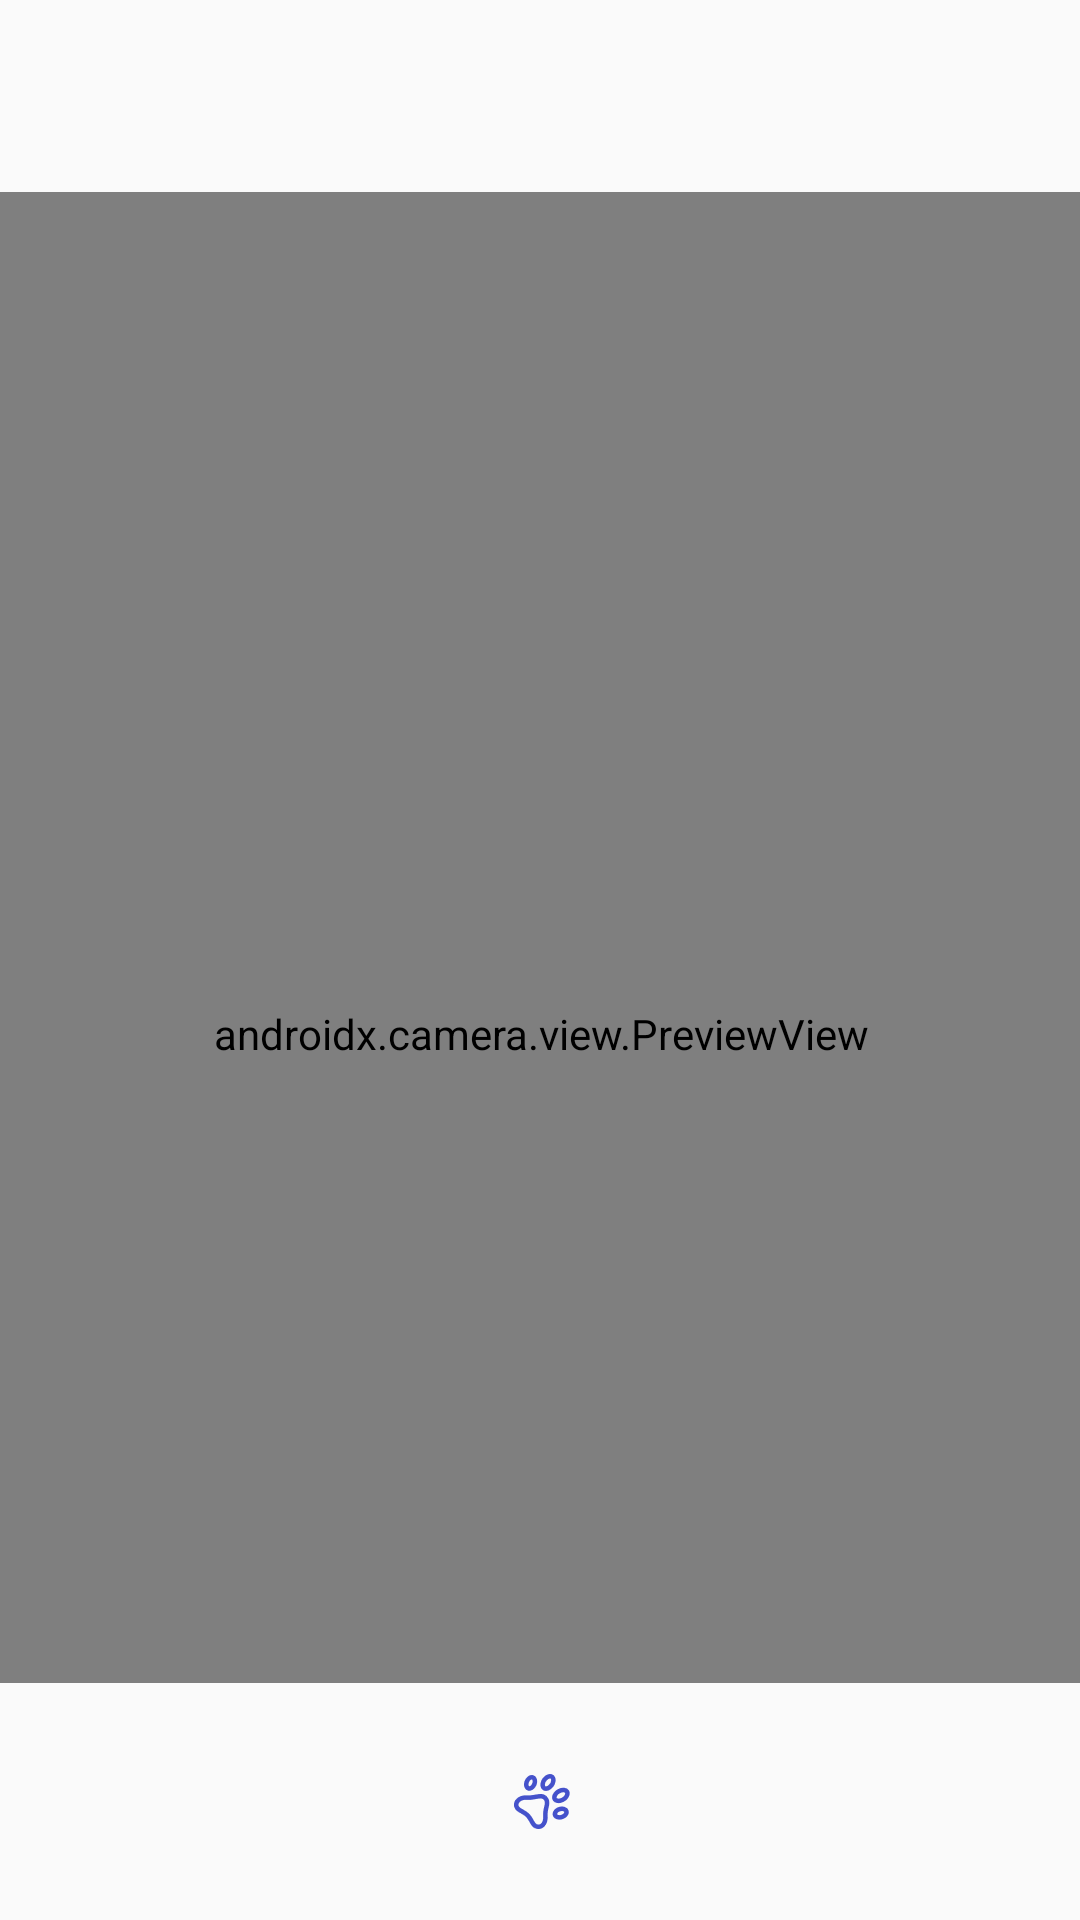

Icons on this 1080 × 1920 Android screen, each with the point to tap as (x=x, y=y):
pet: (x=542, y=1801)
